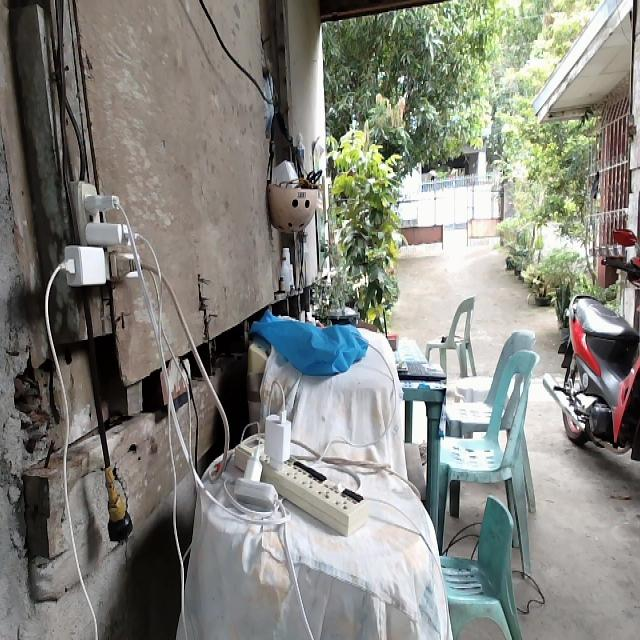-: (56, 178, 139, 286)
